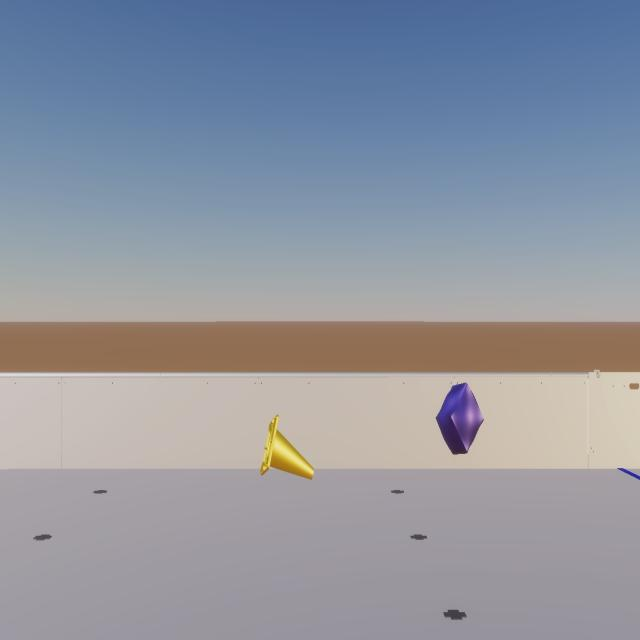frc_cone: (260, 414, 314, 480)
frc_cube: (436, 382, 484, 455)
